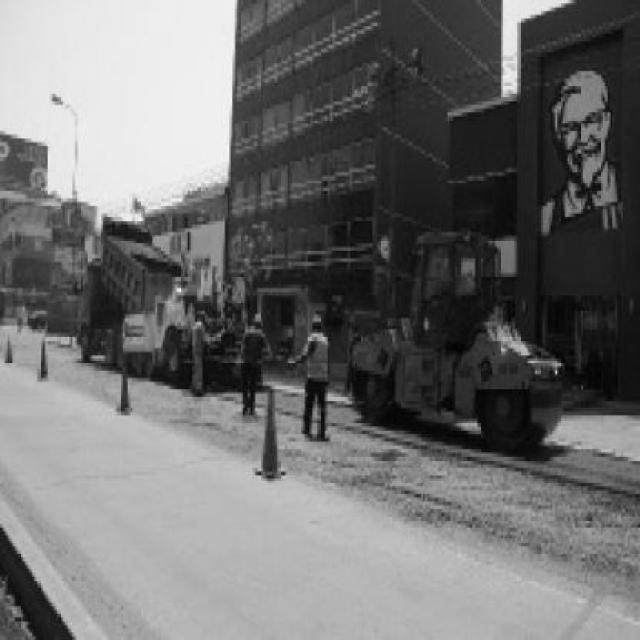Construction Equipment: (347, 232, 563, 444)
